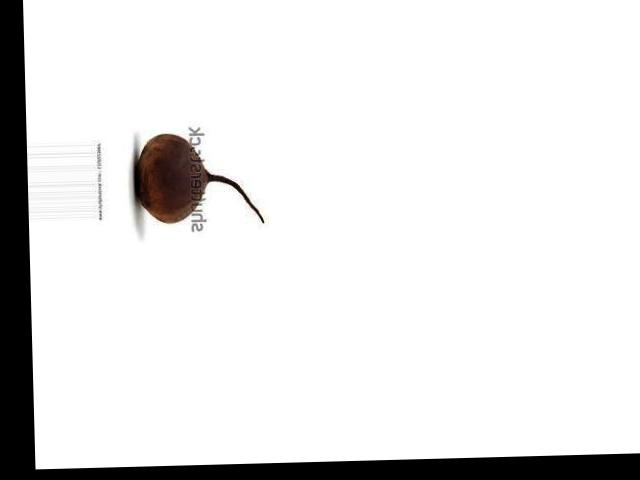beet: (133, 129, 264, 226)
